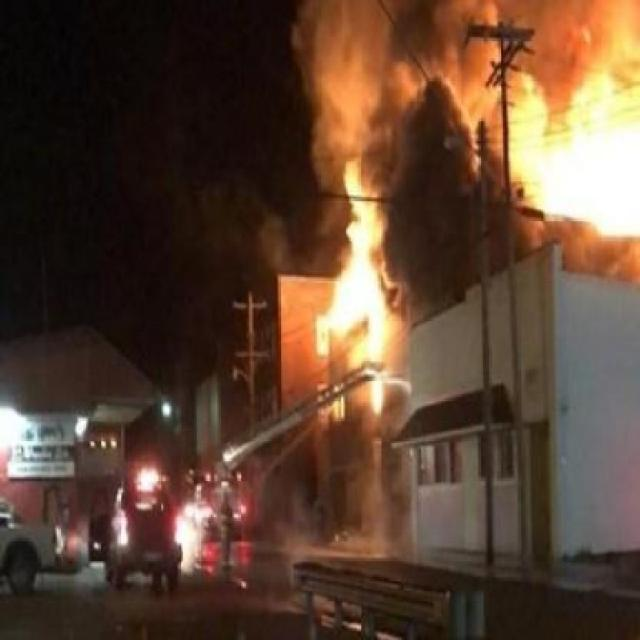Fire: (428, 20, 640, 278), (292, 212, 423, 464)
Smoke: (295, 28, 548, 205)
